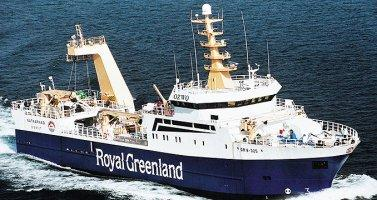Ship: (7, 1, 369, 200)
